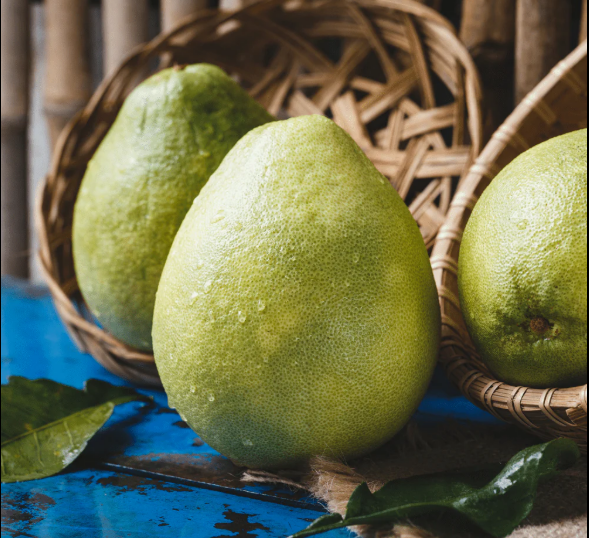buoi: (147, 113, 442, 475), (69, 54, 292, 354), (456, 125, 587, 393)
